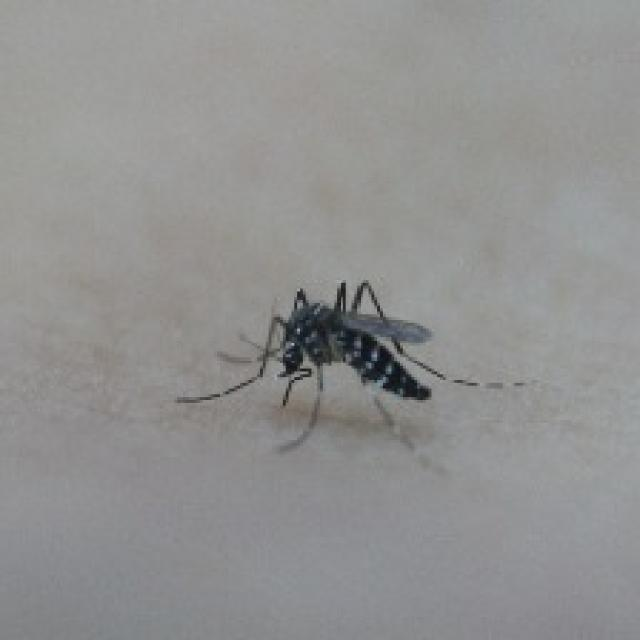aedes: (171, 274, 526, 454)
